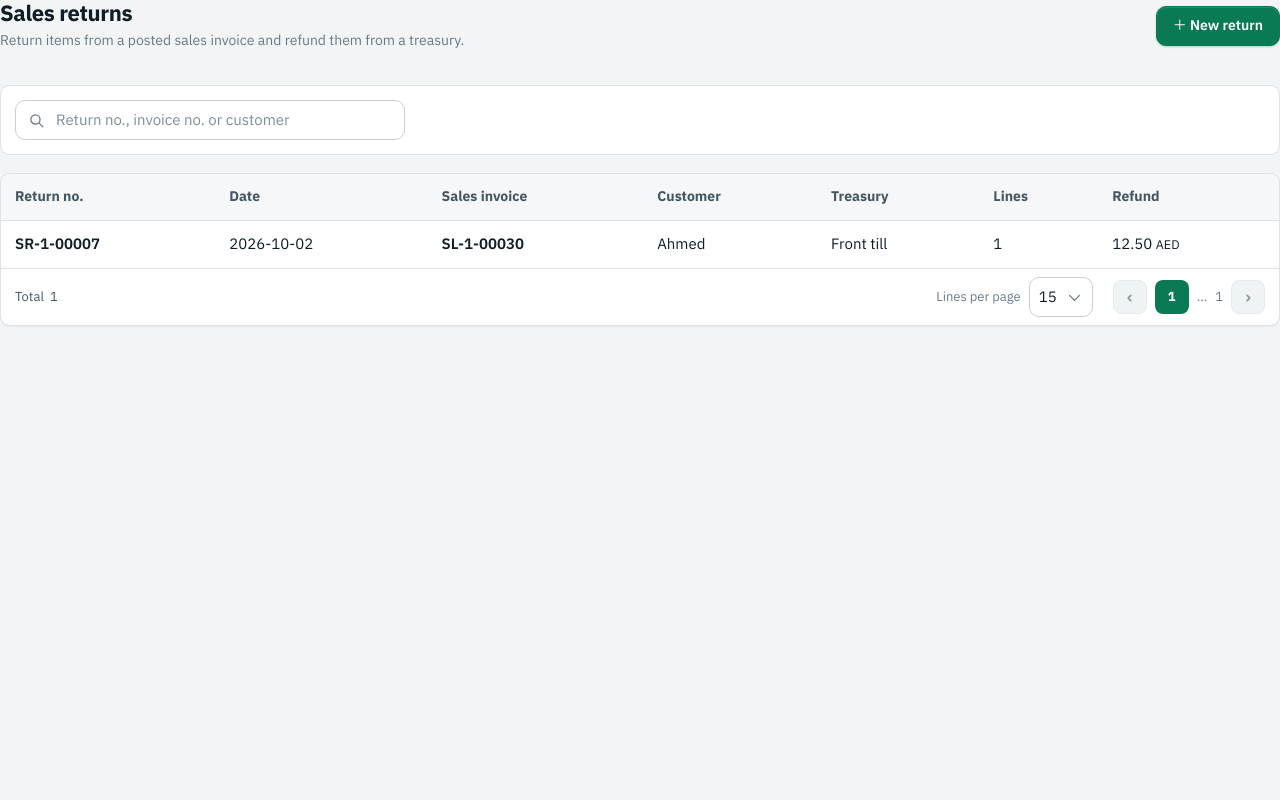
Test: SalesReturnsPage › previews the refund with the invoice discount share and posts the return
Click the button "＋ New return".
click(1218, 26)  # box [1156,6,1279,46]
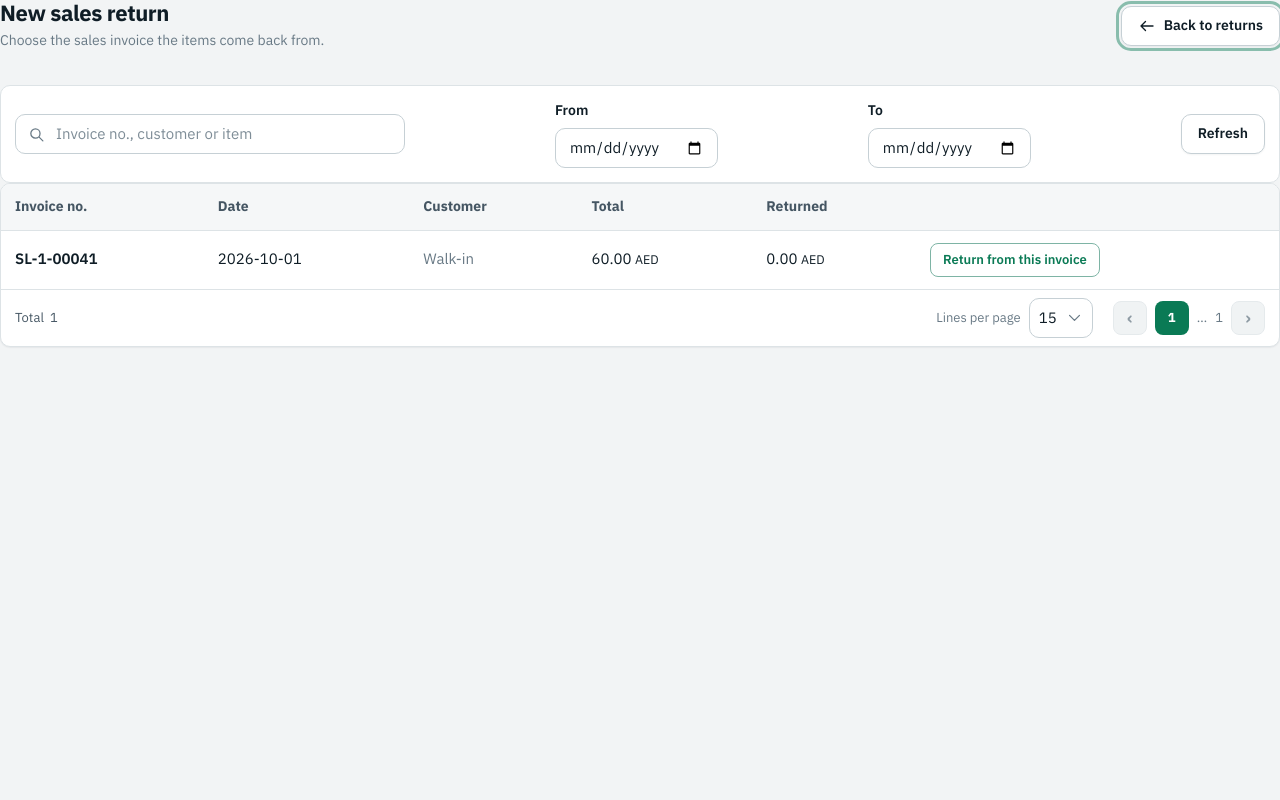
Click the button "Return from this invoice".
click(1015, 260)  # box [930,243,1100,277]
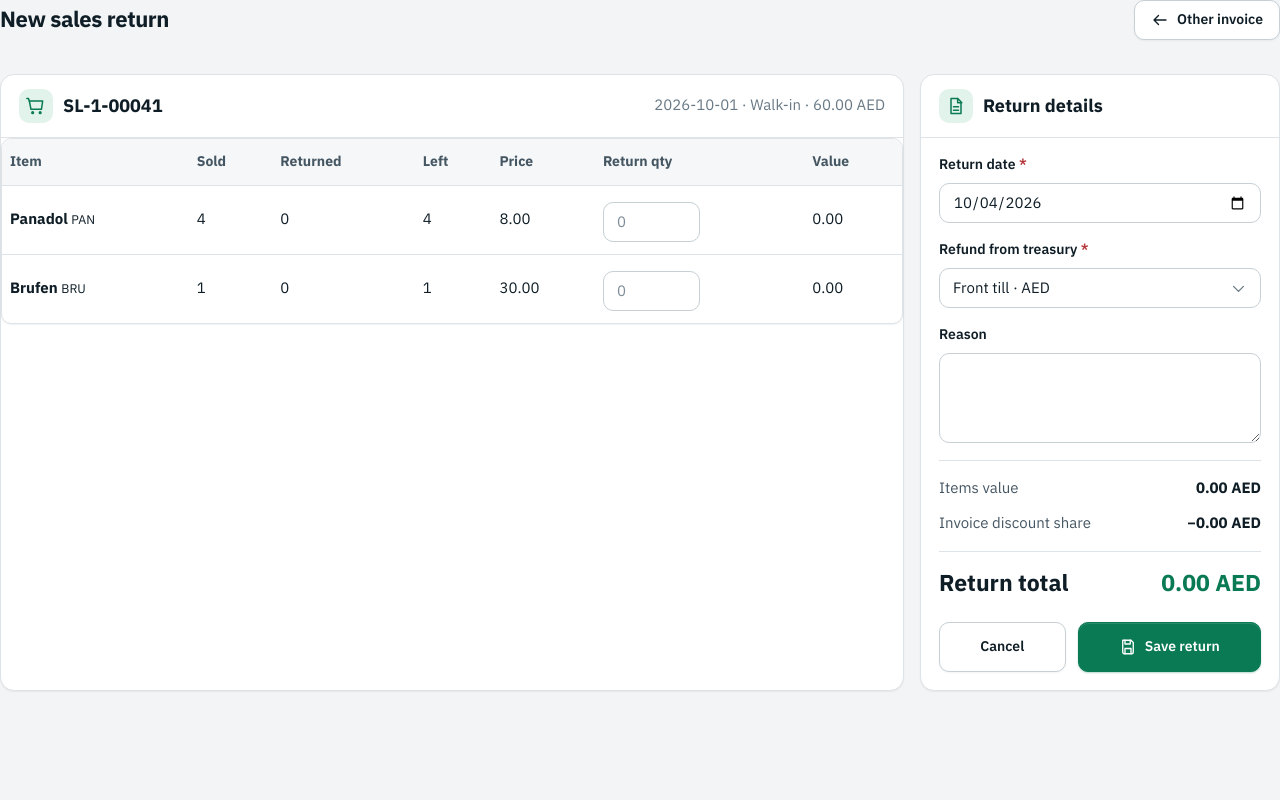
Check: the heading "SL-1-00041" is shown, box [63,92,162,120]
Type "2" into the number field named "Return quantity for Panadol".
click(652, 222); type("2")  # box [603,202,700,242]
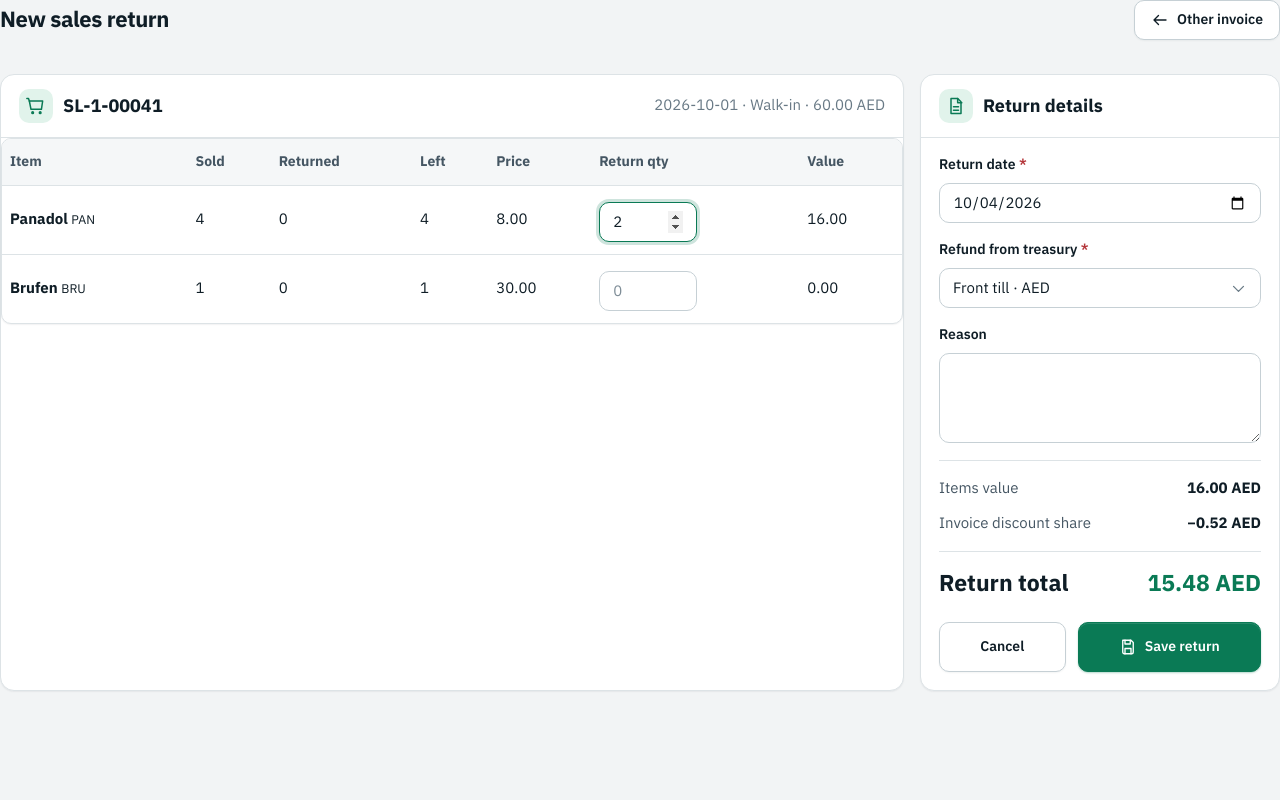
Check: the text "15.48 AED" is shown, box [1148,566,1261,602]
Click the button "Save return".
click(1169, 647)  # box [1078,622,1261,672]
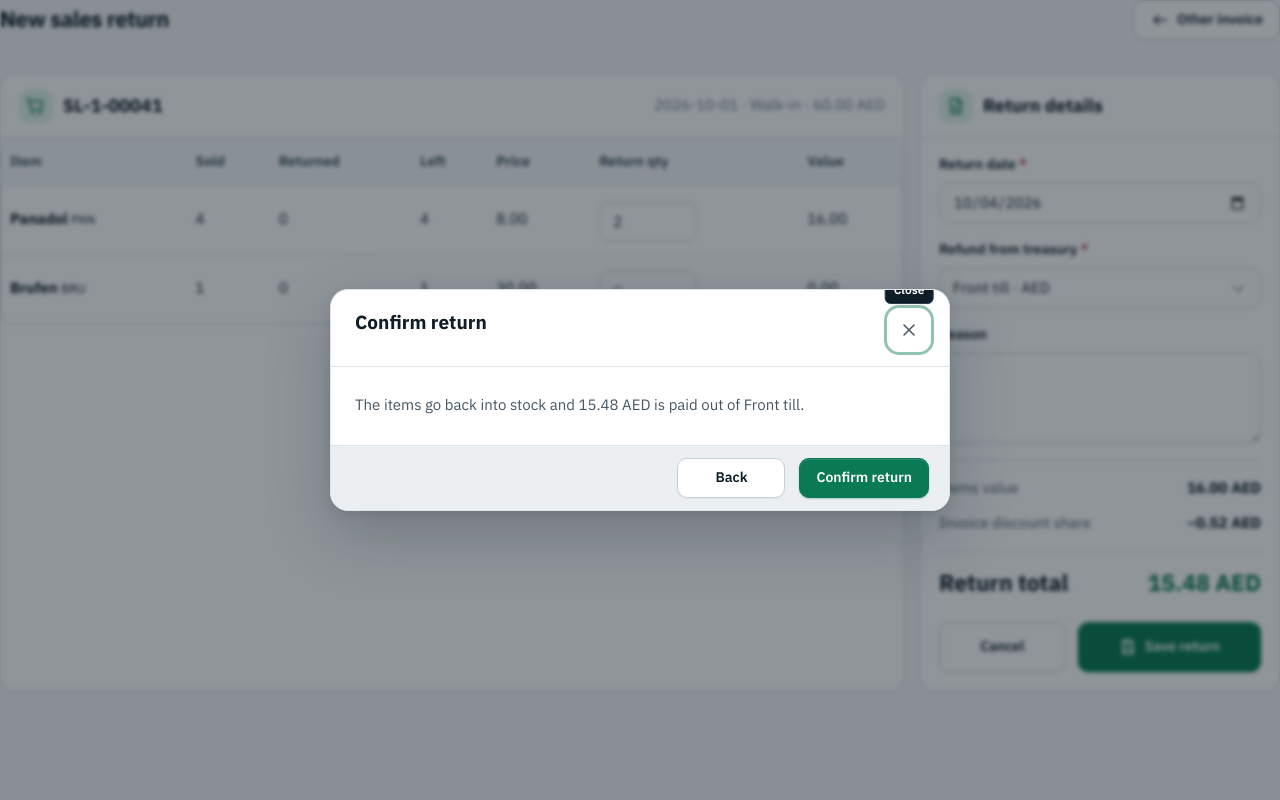
Check: the dialog shows "15.48 AED is paid out of Front till", box [355,394,804,416]
Click the button "Confirm return".
click(864, 478)  # box [800,458,929,498]
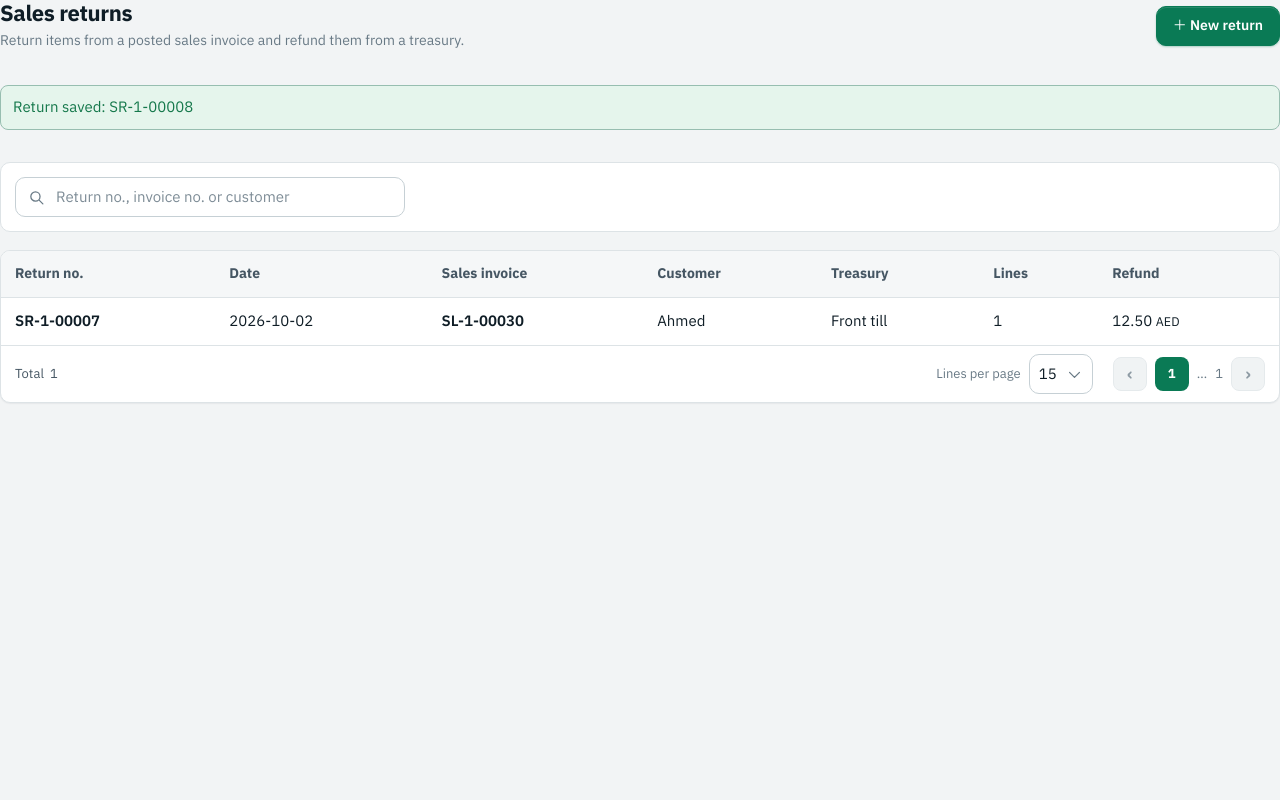
Check: the text "Return saved: SR-1-00008" is shown, box [0,85,1279,130]
